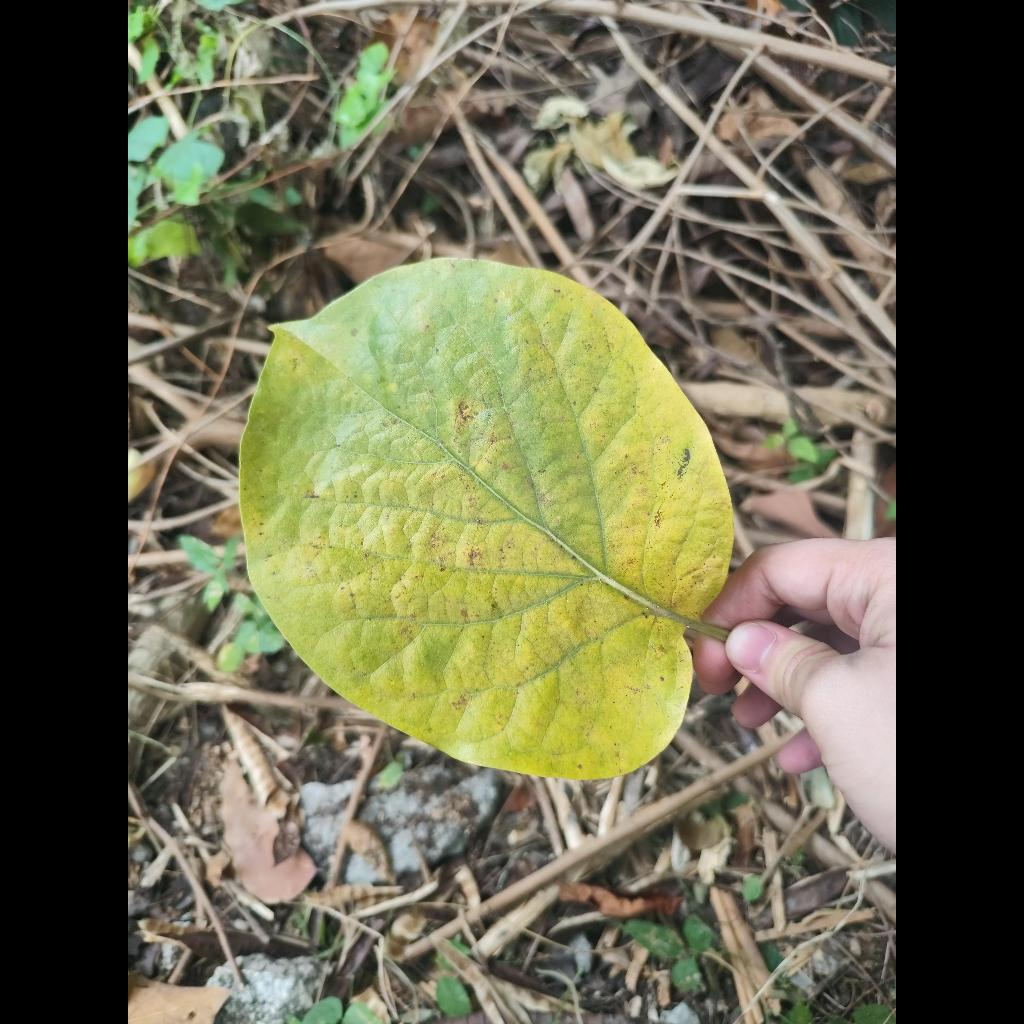nutrient_deficiency: (240, 260, 732, 778)
